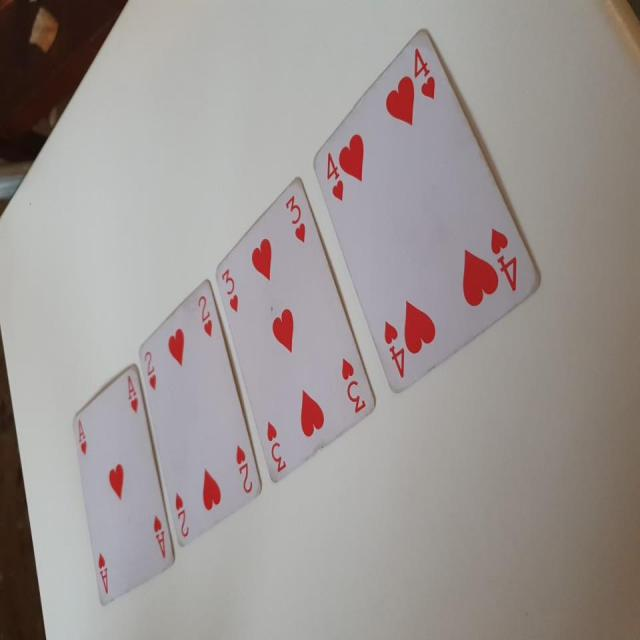2 Hearts: (133, 269, 264, 562)
3 Hearts: (210, 177, 382, 492)
4 Hearts: (307, 20, 550, 410)
A Hearts: (73, 364, 176, 609)
